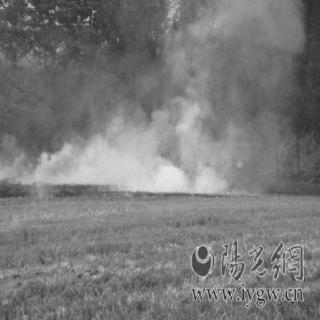Fire: (124, 183, 134, 200)
